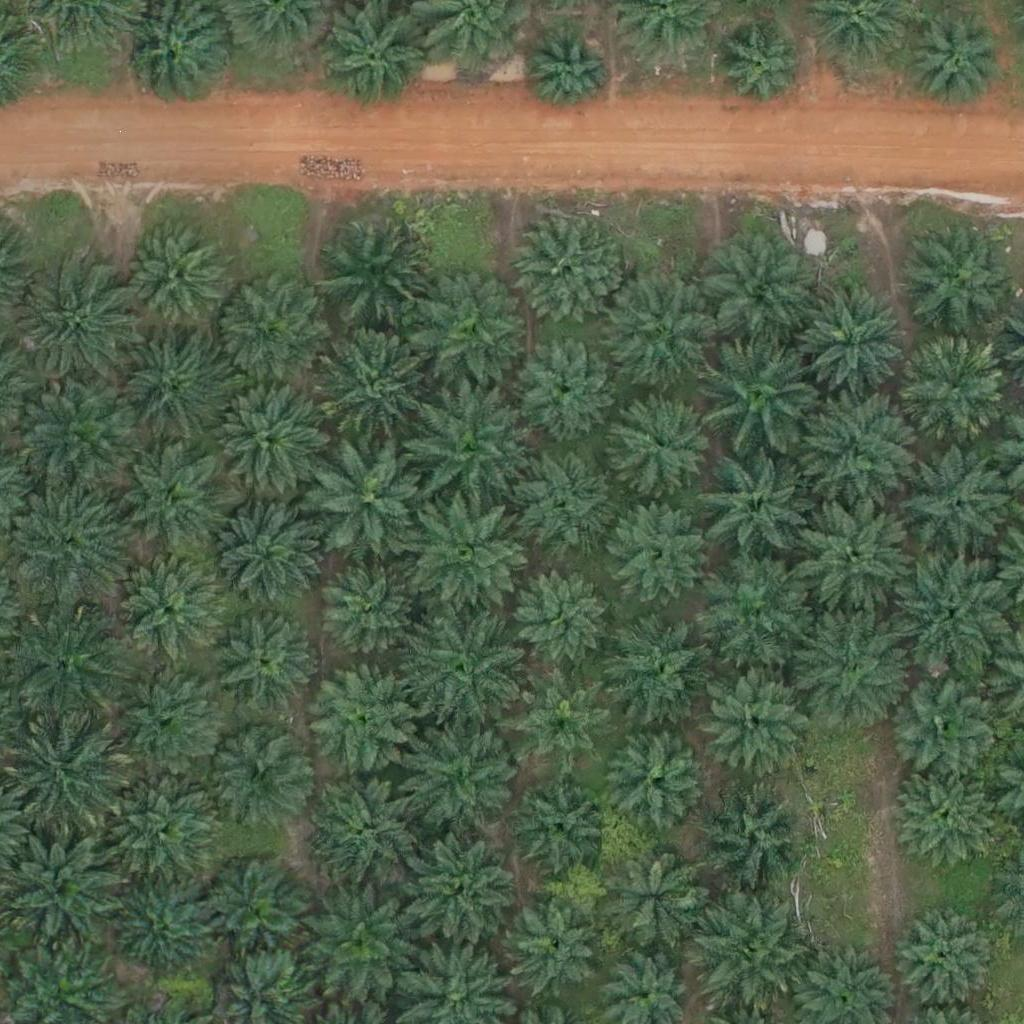Kelapa_Sawit: (901, 221, 1014, 335), (799, 285, 912, 399), (799, 494, 912, 608), (698, 554, 811, 668), (415, 495, 528, 609), (312, 439, 425, 553), (120, 444, 233, 558), (7, 837, 120, 951), (893, 549, 1006, 662), (897, 335, 1010, 448), (795, 399, 908, 512), (792, 613, 905, 726), (705, 336, 818, 449), (603, 610, 716, 723), (695, 906, 808, 1019), (512, 217, 625, 330), (410, 278, 523, 391), (302, 886, 415, 999), (309, 770, 422, 883), (301, 659, 414, 772), (213, 274, 326, 387), (214, 378, 327, 491), (207, 610, 320, 723), (202, 718, 315, 831), (199, 852, 312, 965), (100, 776, 213, 889), (111, 333, 224, 446), (25, 379, 138, 492), (5, 483, 118, 596), (315, 1, 428, 114), (900, 445, 1012, 559), (609, 274, 721, 388), (410, 724, 522, 838), (118, 552, 230, 666), (705, 674, 817, 787), (699, 449, 811, 562), (703, 237, 815, 350), (693, 777, 805, 890), (503, 445, 615, 558), (413, 393, 525, 506), (409, 613, 521, 726), (406, 830, 518, 943), (322, 214, 434, 327), (315, 325, 427, 438), (208, 503, 320, 616), (111, 664, 223, 777), (19, 267, 131, 380), (12, 607, 124, 720), (13, 720, 125, 833), (899, 911, 999, 1012), (894, 674, 994, 775), (611, 390, 711, 491), (611, 736, 711, 837), (607, 847, 707, 948), (514, 771, 614, 872), (508, 563, 608, 664), (513, 331, 613, 432), (114, 885, 214, 986), (121, 227, 221, 328), (906, 14, 1006, 115), (898, 765, 998, 865), (610, 501, 710, 601), (507, 895, 607, 995), (513, 670, 613, 770), (317, 559, 417, 659), (718, 28, 806, 116), (525, 28, 612, 116)
